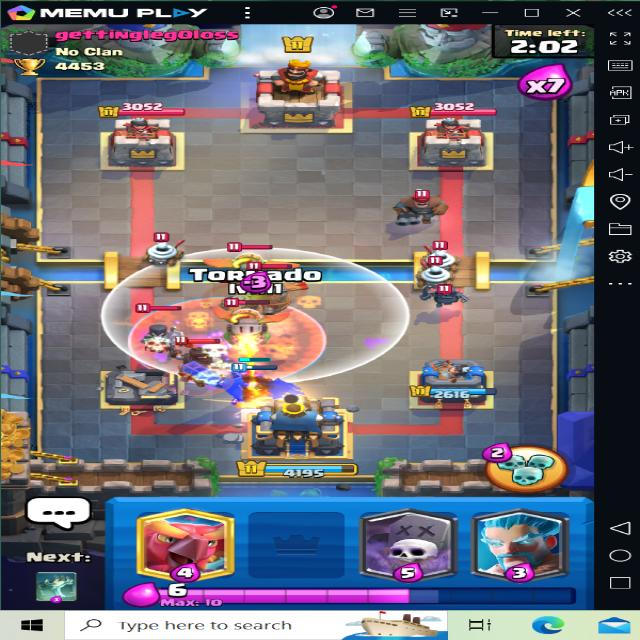bats: (198, 344, 230, 372)
dark-prince: (172, 333, 232, 388)
flying-machine: (238, 260, 308, 314)
hunter: (386, 184, 447, 230)
inferno-dragon: (226, 242, 286, 294), (214, 297, 281, 338)
mini-pekka: (419, 282, 470, 310)
night-witch: (144, 302, 182, 357)
zappie: (406, 250, 458, 283), (413, 240, 468, 266), (144, 226, 184, 259)
